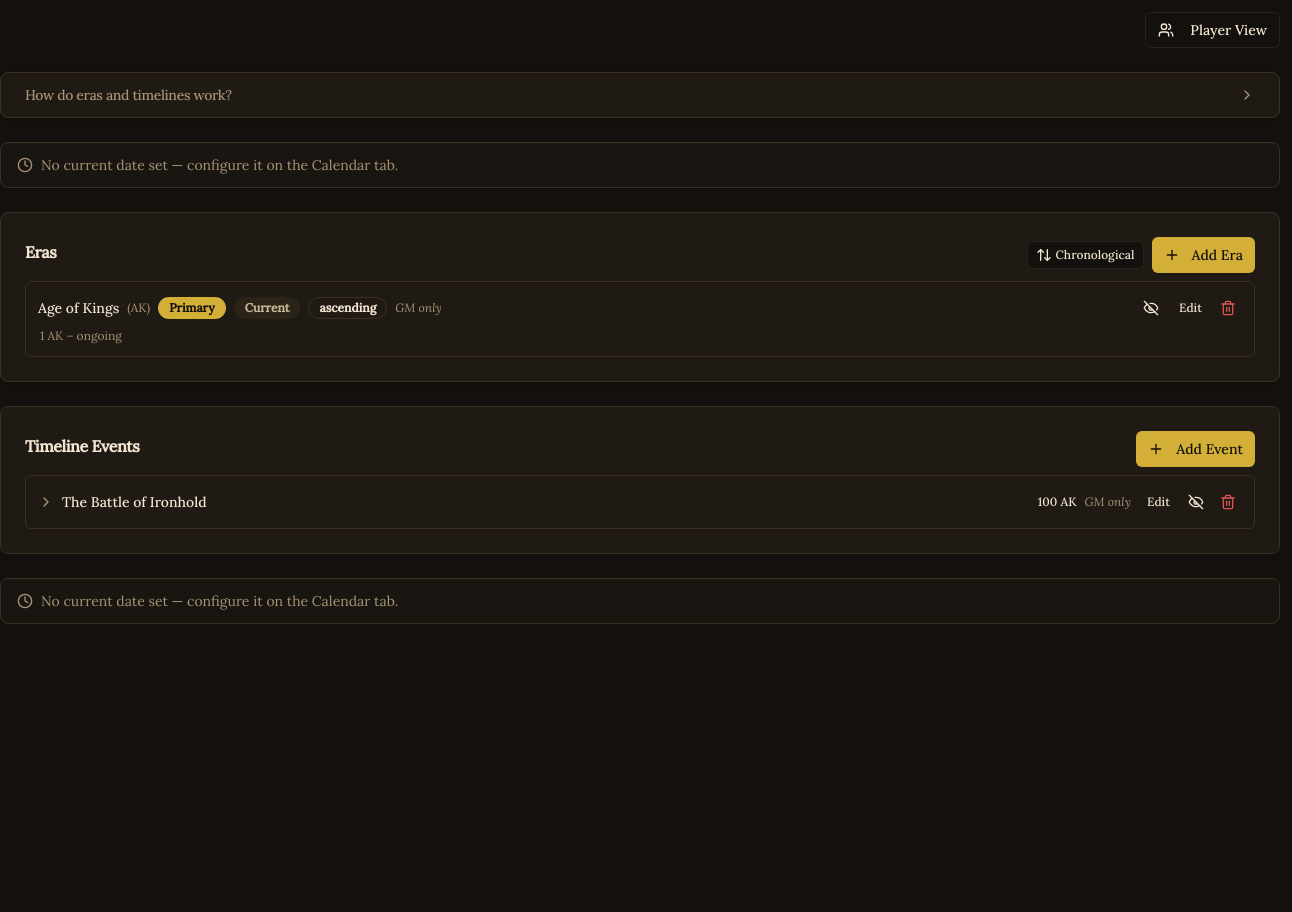
it: TimelineTab — Sessions section in expanded event › GM view shows Sessions section — "None linked" when empty
Click the text "The Battle of Ironhold" at [134, 502], box [62, 493, 206, 511]
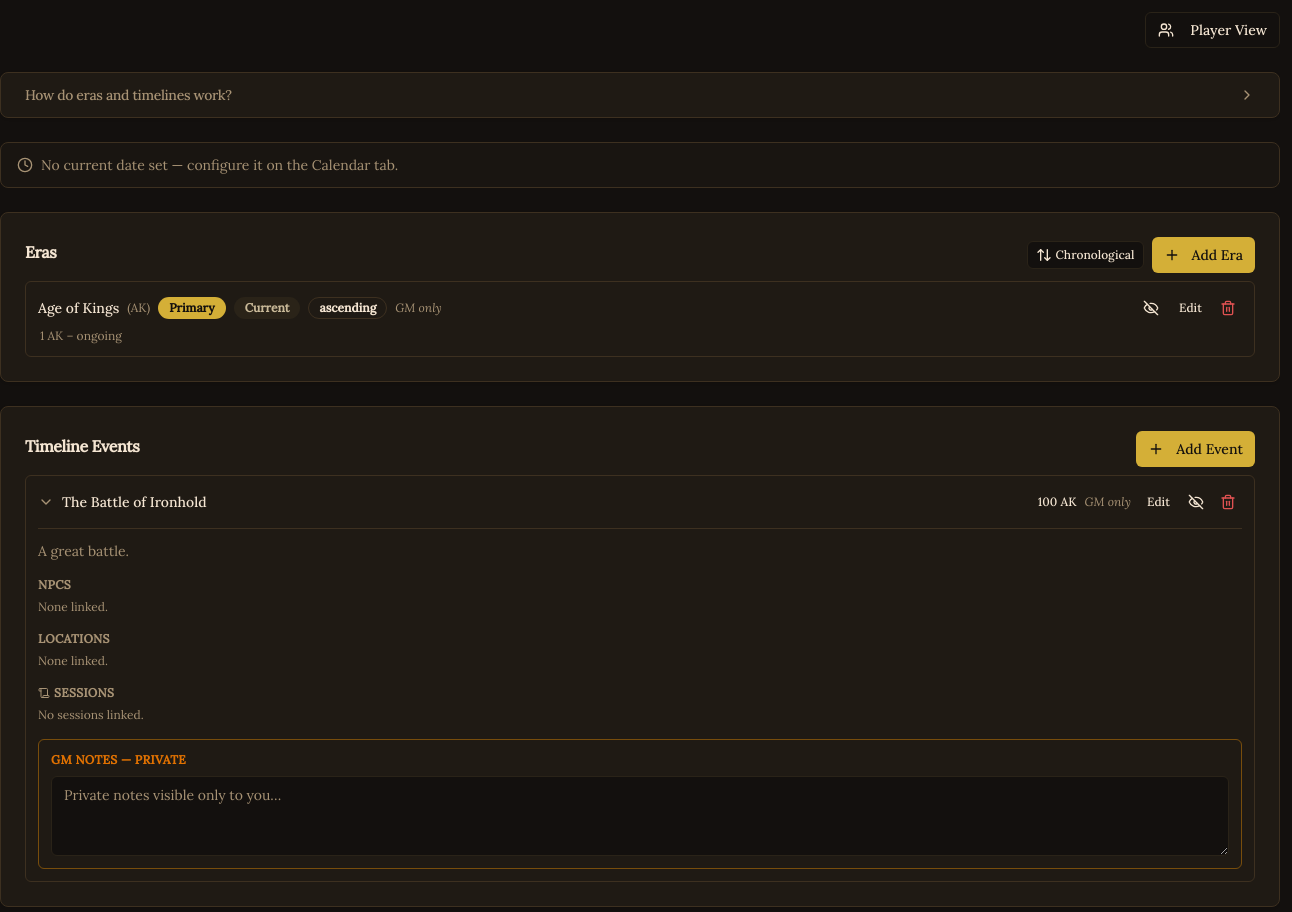
Expected: the text "Sessions" is shown, [38, 685, 114, 700]
Expected: the text "No sessions linked." is shown, [38, 707, 144, 722]
